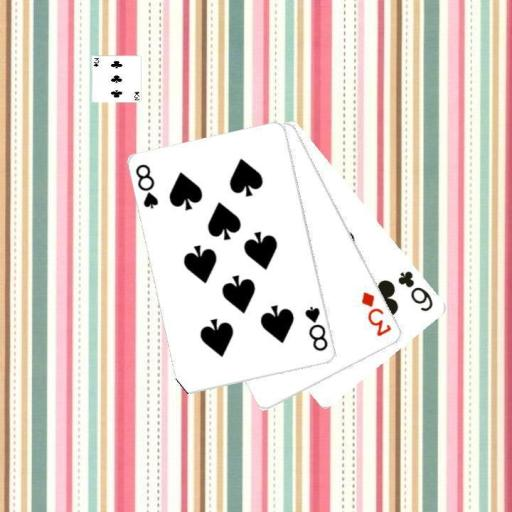card-corner: (395, 268, 435, 314), (358, 288, 394, 338), (302, 303, 330, 353), (132, 160, 160, 210)
